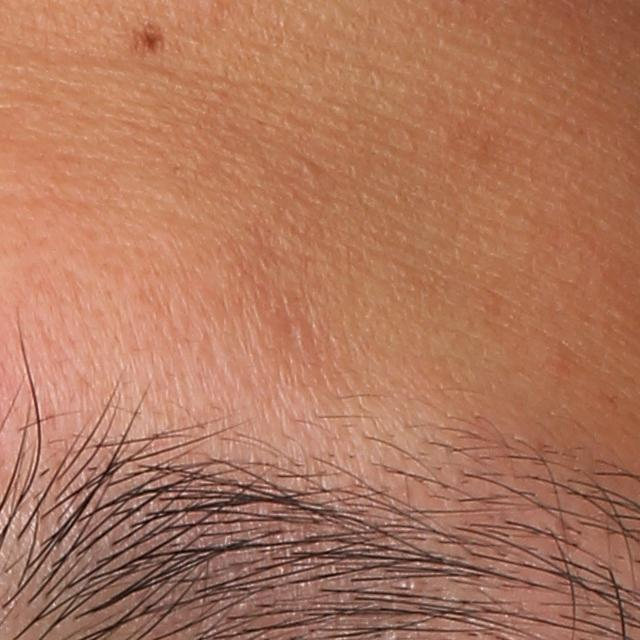nevus: (127, 18, 172, 57)
